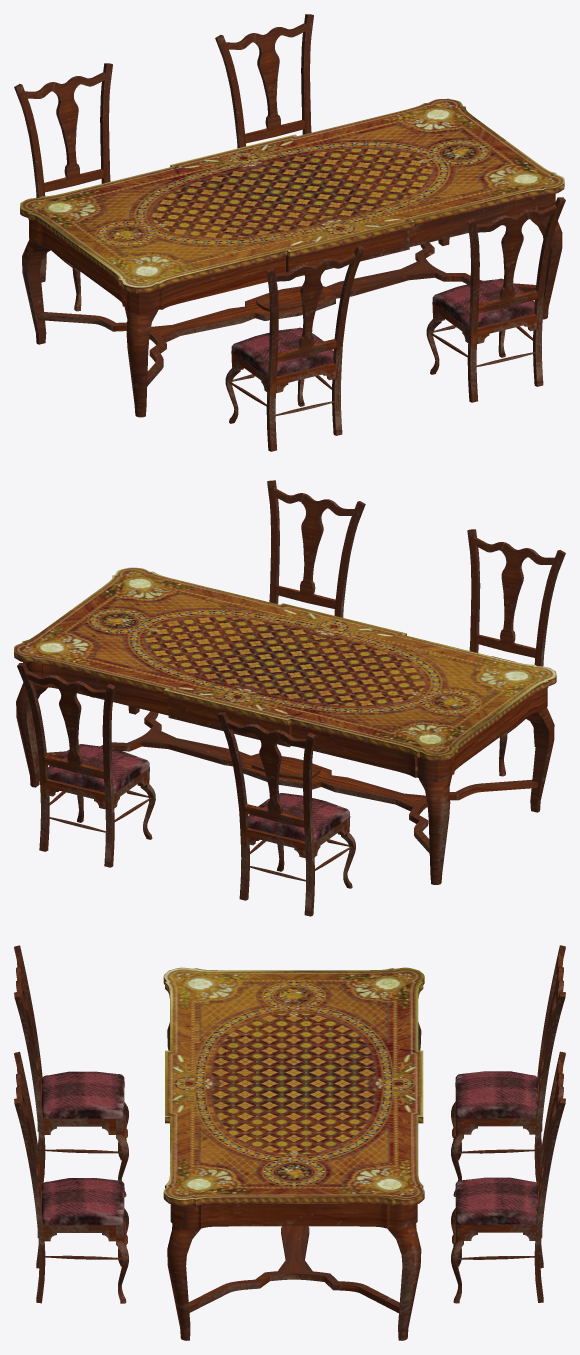
File: WoodenChairWoodenDiningTableSet.glb
3 views of the same model, one above another, from view 1: azimuth 30°, elevation 25°; view 2: azimuth 150°, elevation 25°; view 3: azimuth 270°, elevation 25° (orthographic). The views are drawn at different scales.
Parts seen in each view (by area): view 1: Box003.005_4, Box003.003_2, Box003.011_12, Box003.012_15, Box003.004_3, Box003.006_7, Box003.002_1, Box003.010_11, Box003.013_16; view 2: Box003.005_4, Box003.003_2, Box003.006_7, Box003.004_3, Box003.011_12, Box003.012_15, Box003.002_1, Box003.007_8, Box003.001_0; view 3: Box003.005_4, Box003.003_2, Box003.012_15, Box003.006_7, Box003.004_3, Box003.011_12, Box003.013_16, Box003.001_0, Box003.010_11, Box003.007_8, Box003.002_1.
Boxes of the visible parts, left/top/right/bottom form: Box003.005_4: left=20, top=98, right=564, bottom=287; Box003.003_2: left=22, top=193, right=562, bottom=417; Box003.011_12: left=225, top=246, right=364, bottom=451; Box003.012_15: left=426, top=197, right=565, bottom=402; Box003.004_3: left=14, top=63, right=112, bottom=311; Box003.006_7: left=215, top=14, right=313, bottom=148; Box003.002_1: left=20, top=165, right=564, bottom=293; Box003.010_11: left=231, top=327, right=333, bottom=377; Box003.013_16: left=432, top=278, right=534, bottom=328; Box003.005_4: left=14, top=567, right=556, bottom=755; Box003.003_2: left=16, top=662, right=554, bottom=884; Box003.006_7: left=17, top=663, right=155, bottom=867; Box003.004_3: left=217, top=712, right=355, bottom=916; Box003.011_12: left=467, top=529, right=565, bottom=776; Box003.012_15: left=267, top=480, right=365, bottom=617; Box003.002_1: left=14, top=633, right=556, bottom=761; Box003.007_8: left=48, top=744, right=149, bottom=793; Box003.001_0: left=248, top=793, right=349, bottom=842; Box003.005_4: left=163, top=967, right=424, bottom=1199; Box003.003_2: left=167, top=1022, right=421, bottom=1340; Box003.012_15: left=14, top=1051, right=128, bottom=1303; Box003.006_7: left=451, top=1051, right=565, bottom=1303; Box003.004_3: left=451, top=945, right=565, bottom=1196; Box003.011_12: left=14, top=945, right=128, bottom=1197; Box003.013_16: left=42, top=1178, right=124, bottom=1225; Box003.001_0: left=455, top=1071, right=537, bottom=1118; Box003.010_11: left=42, top=1071, right=124, bottom=1118; Box003.007_8: left=455, top=1177, right=537, bottom=1225; Box003.002_1: left=163, top=977, right=424, bottom=1206.
Bounding box in the file's own units: 0.1541 × 0.0646 × 0.1546.
Materials: 11 (11 with a texture image).
